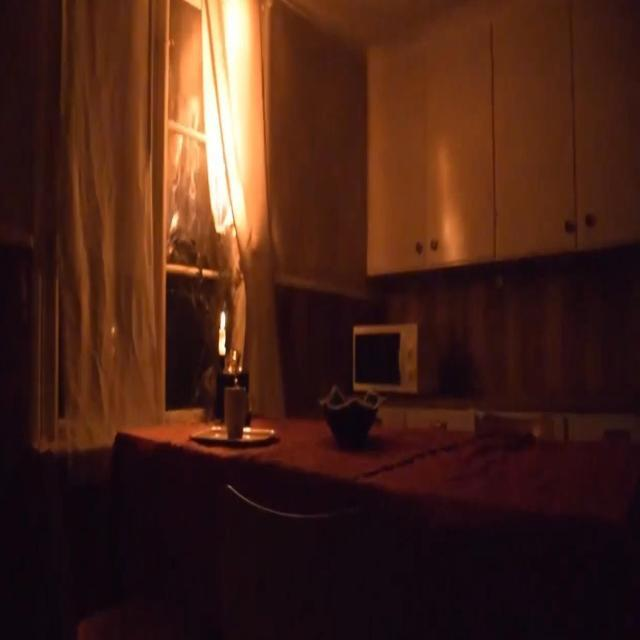smoke: (193, 0, 260, 234), (219, 310, 227, 360)
